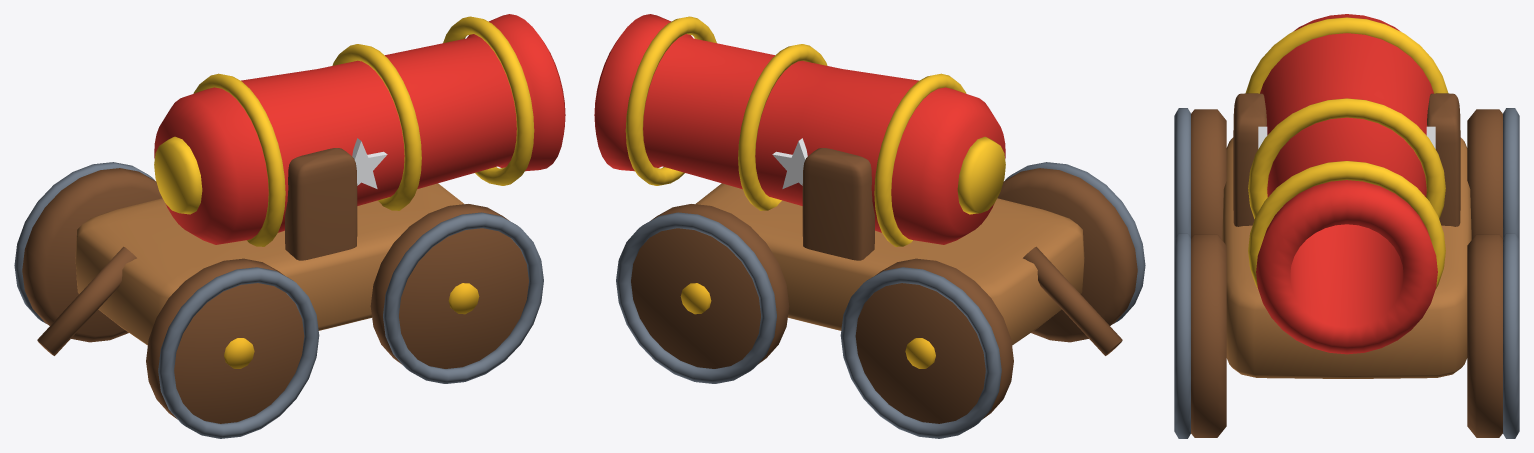
The model's file is launcher.glb.
3 renders of one model, left to right at view 1: azimuth 30°, elevation 25°; view 2: azimuth 150°, elevation 25°; view 3: azimuth 270°, elevation 25°, orthographic. The views are drawn at different scales.
Visible parts, largest first — view 1: Cart, BarrelMesh; view 2: Cart, BarrelMesh; view 3: Cart, BarrelMesh.
Part boxes in pixels (x1=…): Cart: x1=14, y1=148, x2=543, y2=438; BarrelMesh: x1=154, y1=14, x2=565, y2=246; Cart: x1=616, y1=148, x2=1145, y2=438; BarrelMesh: x1=594, y1=14, x2=1005, y2=246; Cart: x1=1174, y1=93, x2=1519, y2=438; BarrelMesh: x1=1245, y1=14, x2=1448, y2=354.
Size of the model in its own units: 2.85 by 1.58 by 1.52.
